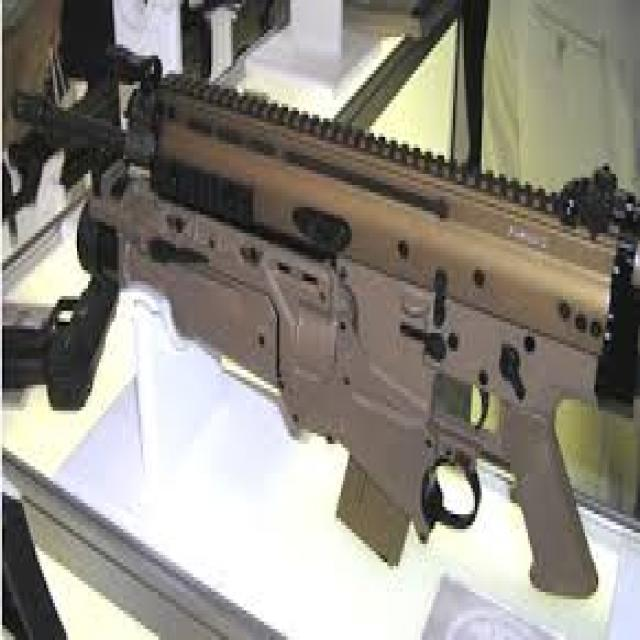Gun: (48, 42, 640, 588)
